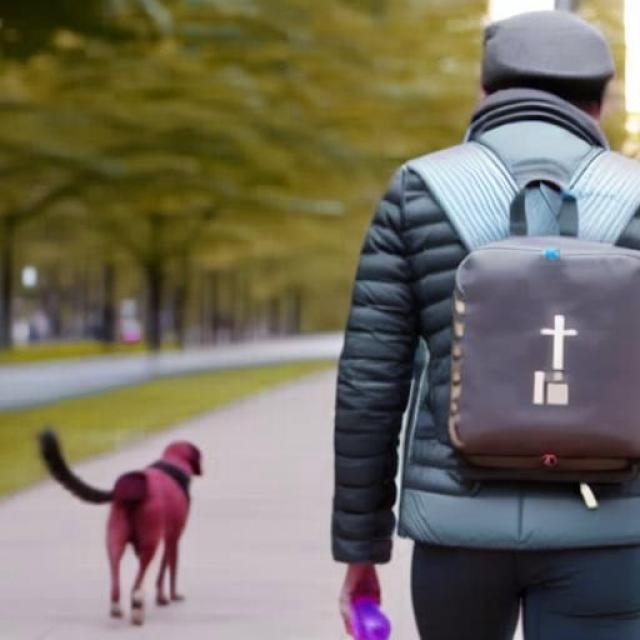Unleashed_Dog: (34, 423, 640, 628)
